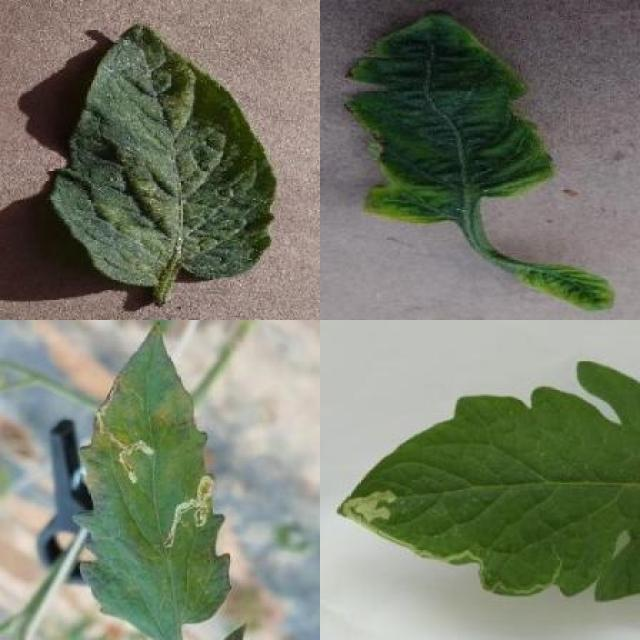Leaf Miner: (335, 359, 639, 602), (71, 321, 233, 640)
Spider Mites: (52, 23, 278, 286)
Yellow Leaf Curl Virus: (344, 12, 556, 227), (518, 260, 615, 313)
